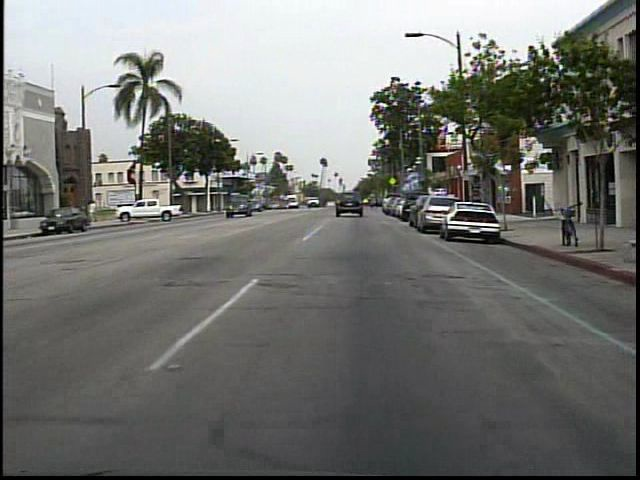person: (85, 198, 101, 228), (367, 189, 383, 219)
